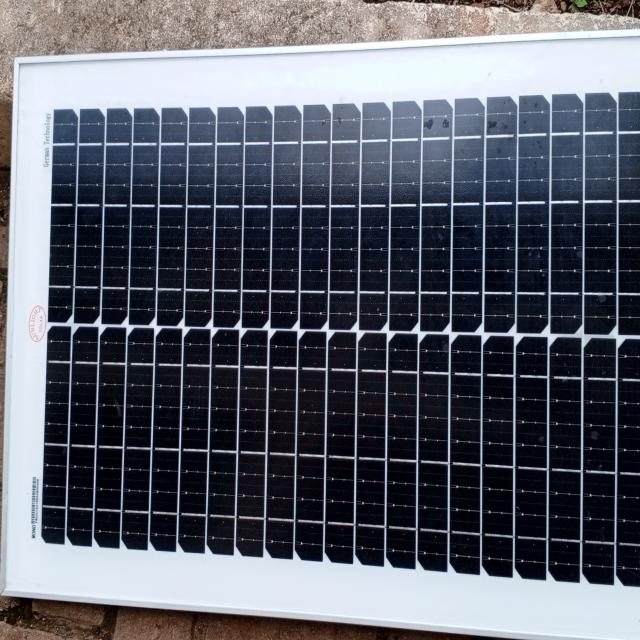Clean: (28, 77, 640, 587)
